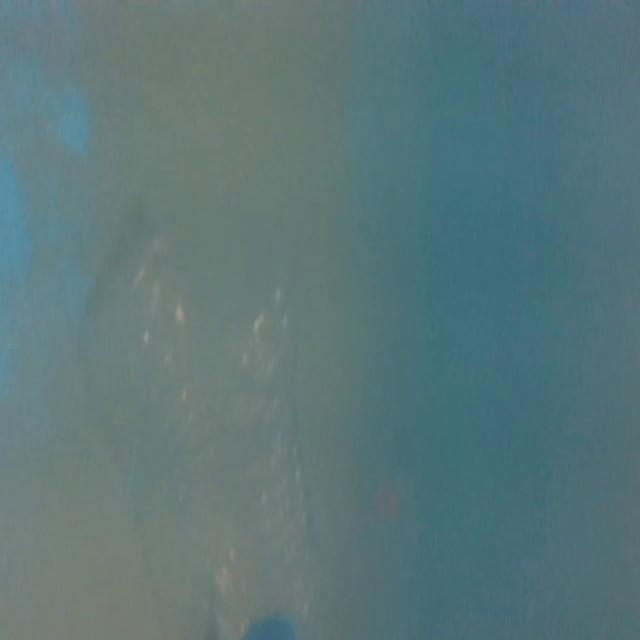plastic bottle: (106, 222, 328, 640)
